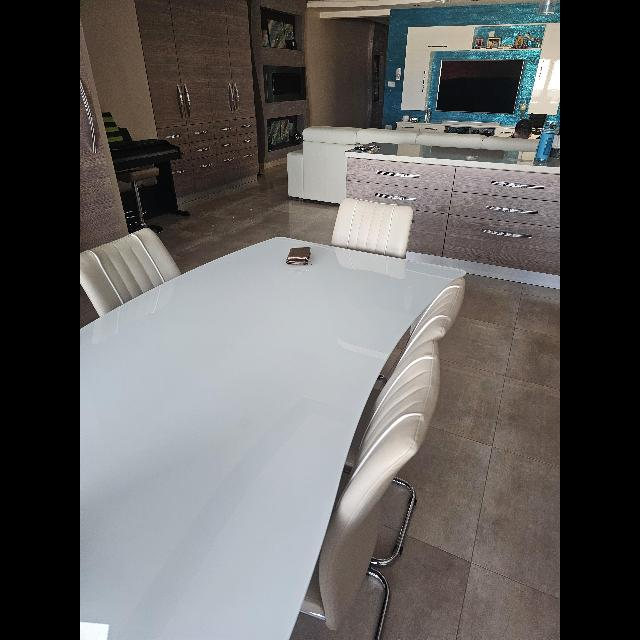Wallet: (286, 247, 312, 265)
